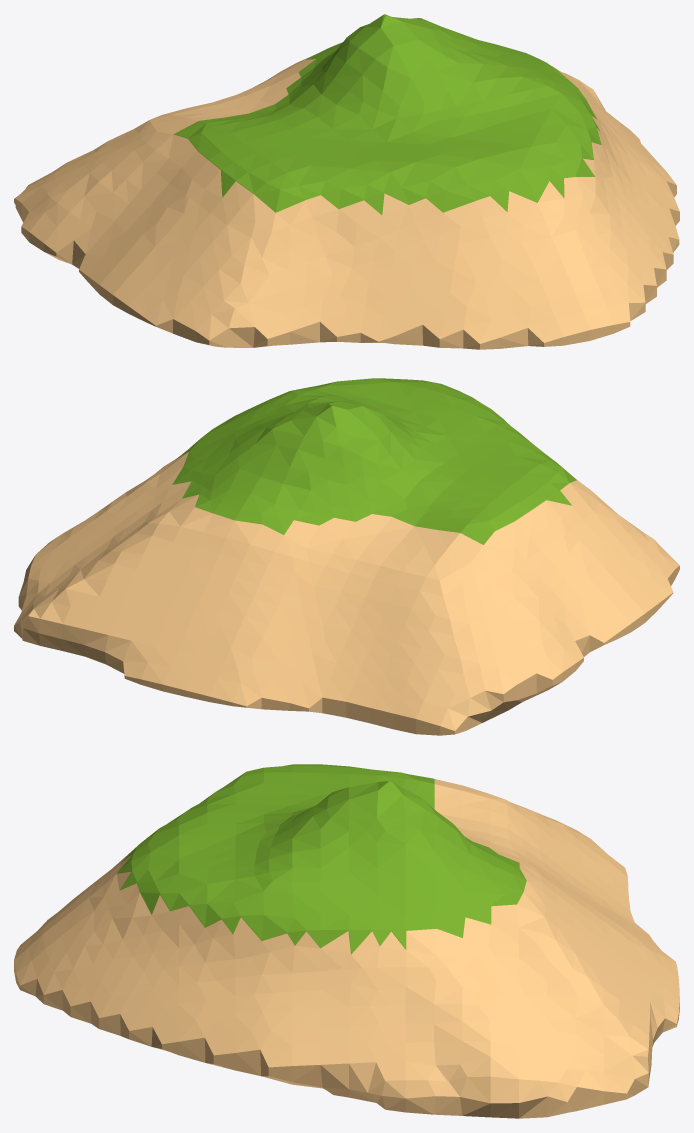
Rendered from Island-003.fbx.
The picture shows the model from 3 angles, top to bottom: view 1: azimuth 30°, elevation 25°; view 2: azimuth 150°, elevation 25°; view 3: azimuth 270°, elevation 25°; orthographic projection. The views are drawn at different scales.
Parts seen in each view (by area): view 1: Island-003; view 2: Island-003; view 3: Island-003.
Boxes of the visible parts, x1,y1,x2,y2 form: Island-003: (14,14,679,349); Island-003: (14,378,679,735); Island-003: (14,764,679,1118).
Bounding box in the file's own units: 46075 × 17461 × 46985.
1 material, 1 textured.
